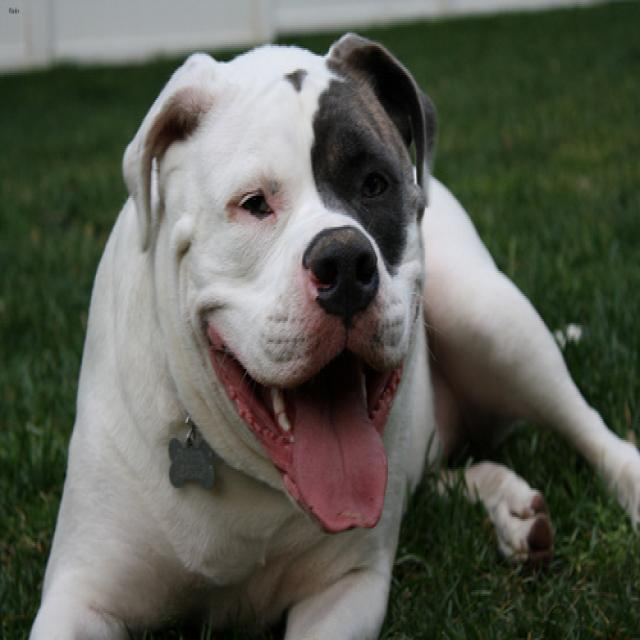dog-american_bulldog: (19, 15, 637, 636)
